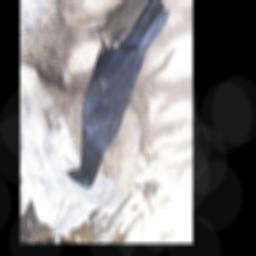Crow: (65, 0, 169, 191)
